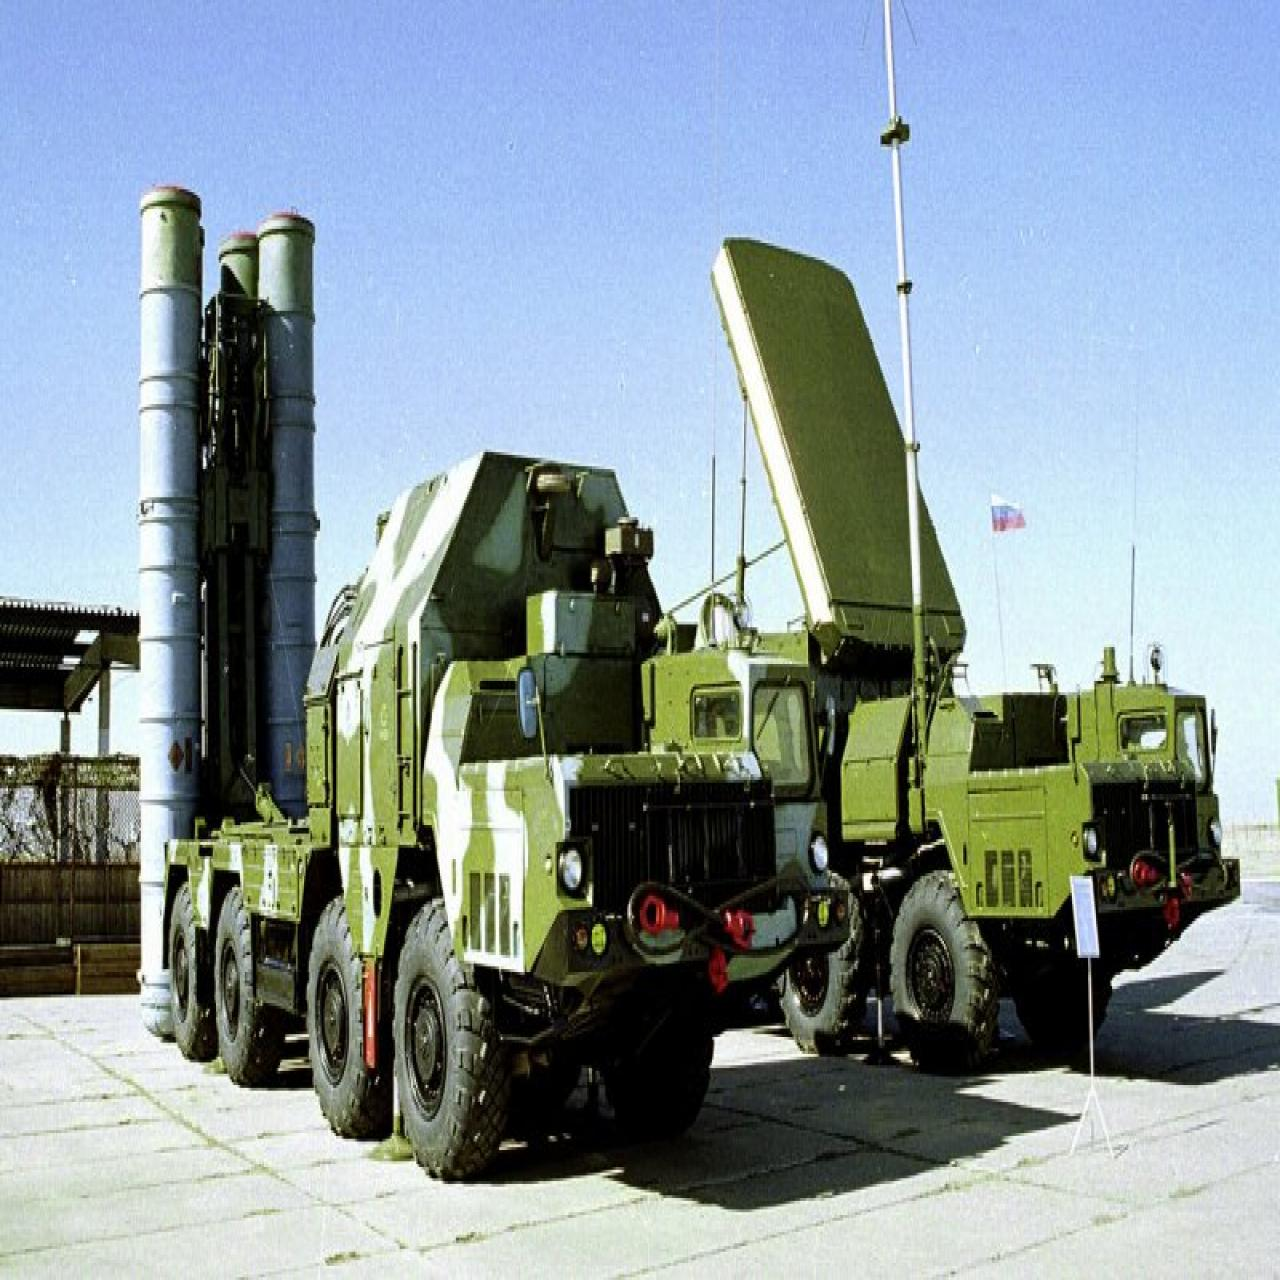MIL_Veh: (139, 185, 828, 1189)
